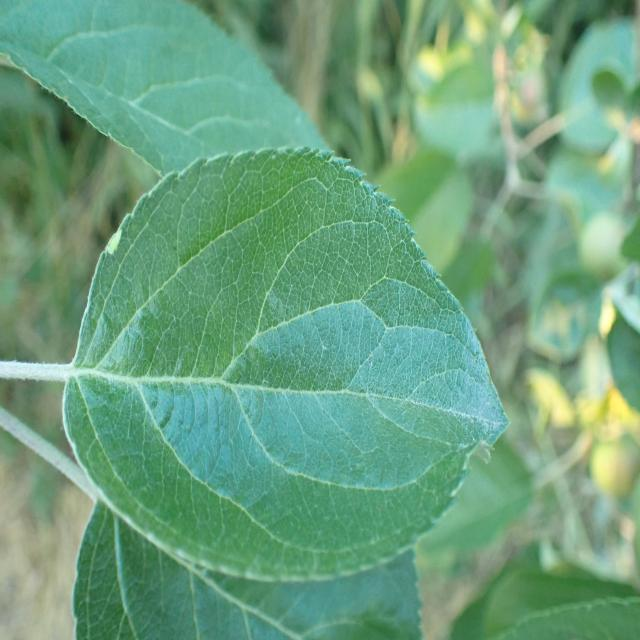healthy: (63, 145, 510, 585), (1, 1, 328, 178), (73, 497, 424, 640)
